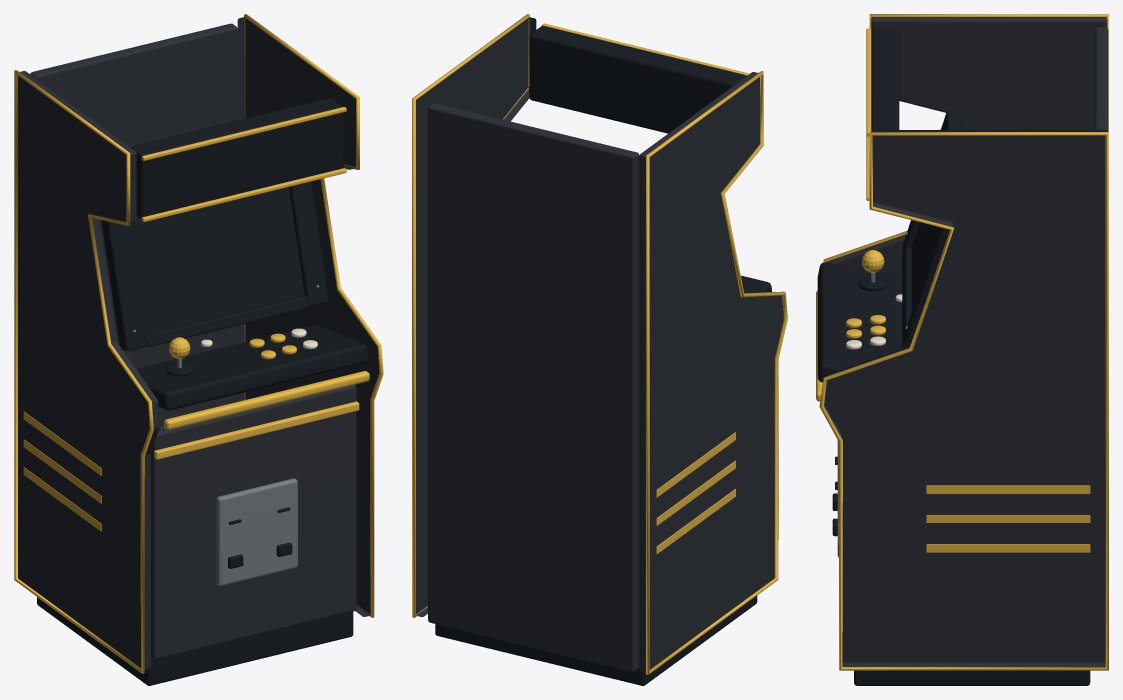
Rendered from den-arcade-issue.glb.
3 views of the same model, side by side, from view 1: azimuth 30°, elevation 25°; view 2: azimuth 150°, elevation 25°; view 3: azimuth 270°, elevation 25° (orthographic). The views are drawn at different scales.
Parts seen in each view (by area): view 1: Cabinet_satin charcoal laminate, Cabinet_recessed graphite, Cabinet_coloured T-moulding, Cabinet_brushed coin plate; view 2: Cabinet_satin charcoal laminate, Cabinet_recessed graphite, Cabinet_coloured T-moulding; view 3: Cabinet_satin charcoal laminate, Cabinet_recessed graphite, Cabinet_coloured T-moulding.
Part boxes in pixels (bbox=[...]): Cabinet_satin charcoal laminate: bbox=[18, 17, 379, 670]; Cabinet_recessed graphite: bbox=[37, 98, 368, 685]; Cabinet_coloured T-moulding: bbox=[14, 14, 383, 673]; Cabinet_brushed coin plate: bbox=[133, 285, 319, 585]; Cabinet_satin charcoal laminate: bbox=[416, 17, 783, 671]; Cabinet_recessed graphite: bbox=[435, 26, 771, 685]; Cabinet_coloured T-moulding: bbox=[412, 14, 787, 674]; Cabinet_satin charcoal laminate: bbox=[824, 17, 1108, 666]; Cabinet_recessed graphite: bbox=[817, 29, 1090, 685]; Cabinet_coloured T-moulding: bbox=[816, 14, 1108, 670].
Size of the model in its own units: 0.746 by 1.62 by 0.7692.
